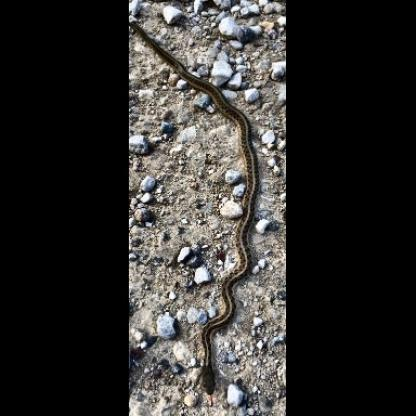Snake: (133, 24, 262, 400)
